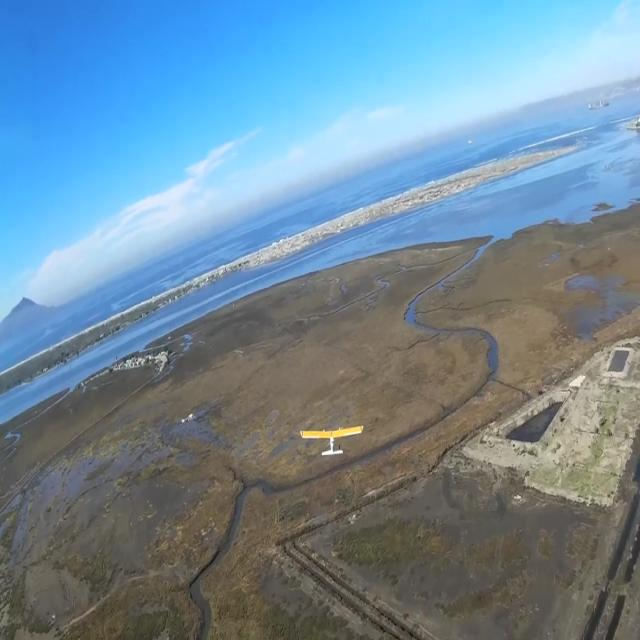iha: (324, 424, 326, 457)
